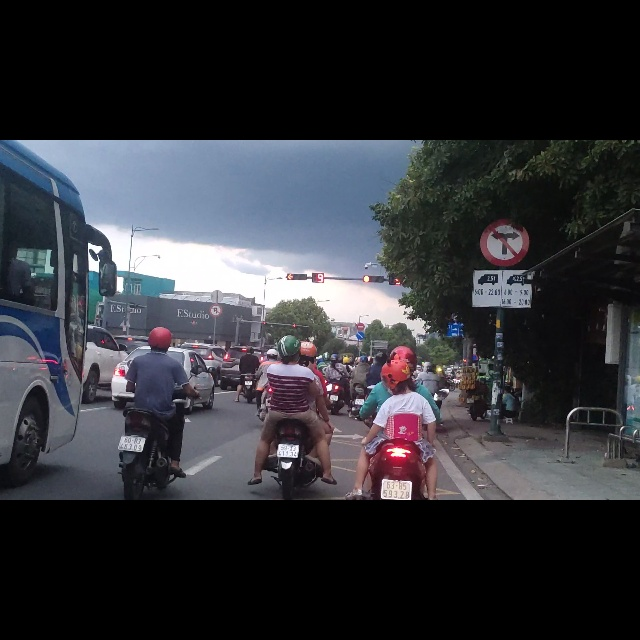bien_cam: (479, 137, 530, 226), (471, 231, 533, 300), (209, 291, 222, 315), (356, 324, 365, 339), (356, 340, 364, 356)
